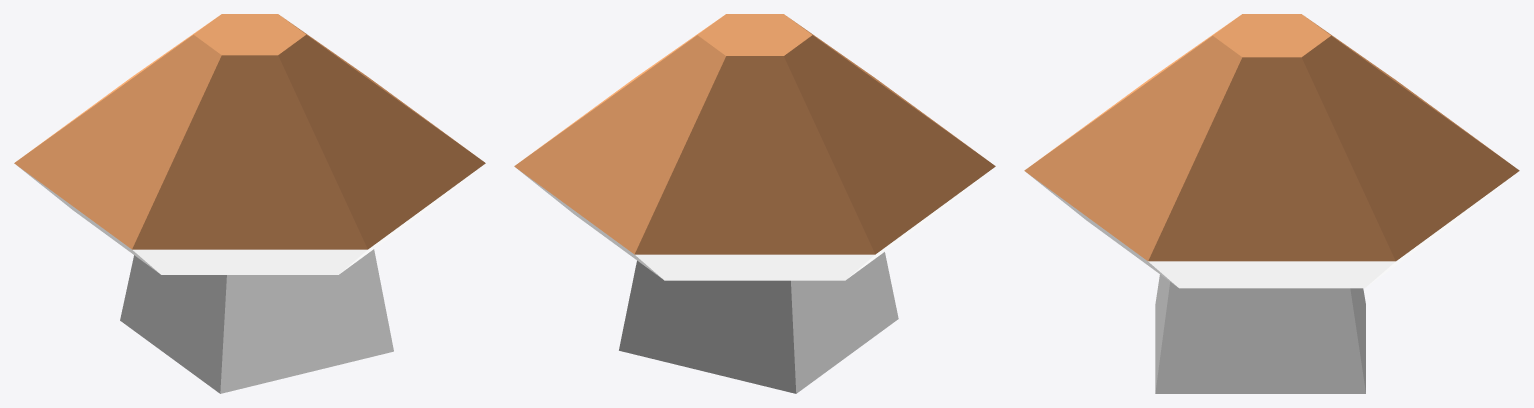
File: mushroom_brown.obj
3 views of the same model, side by side, from view 1: azimuth 30°, elevation 25°; view 2: azimuth 150°, elevation 25°; view 3: azimuth 270°, elevation 25° (orthographic). The views are drawn at different scales.
Visible parts, largest first — view 1: mushroom_brown; view 2: mushroom_brown; view 3: mushroom_brown.
Part boxes in pixels (left/top/right/bottom): mushroom_brown: left=14, top=14, right=485, bottom=393; mushroom_brown: left=514, top=14, right=995, bottom=393; mushroom_brown: left=1024, top=14, right=1519, bottom=393.
Size of the model in its own units: 1.91 by 1.54 by 2.21.
